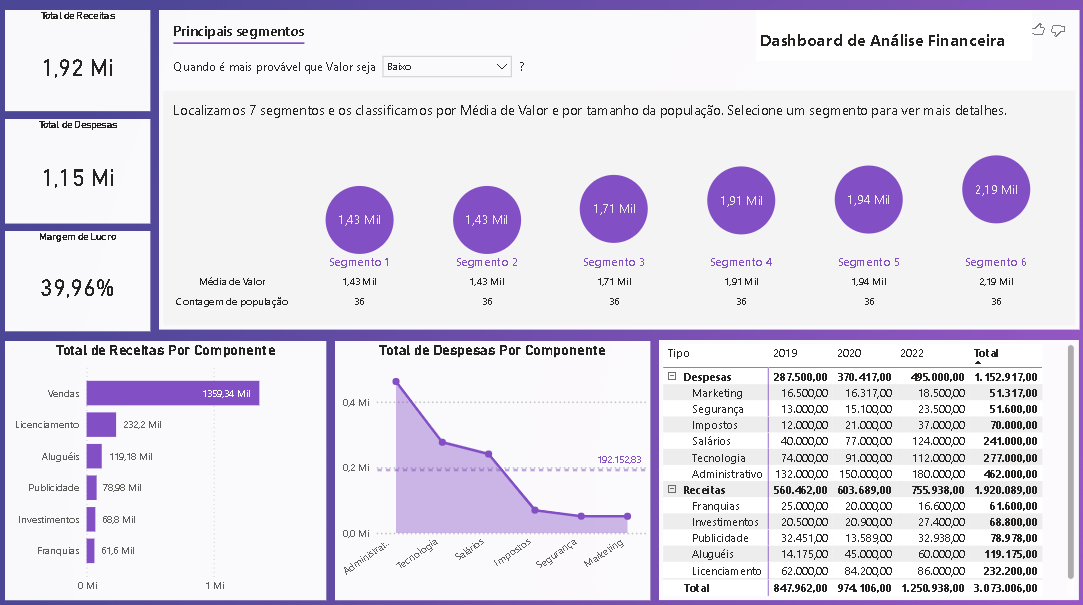

The page's visual inventory and layout, read from the dashboard file:
{"tool":"powerbi","page":{"name":"Dashboard","canvas":[1280,720],"ordinal":0},"visuals":[{"type":"card","title":"Total de  Receitas","fields":{"Values":["Medidas.TotalReceitas"]},"box":[6.2,16.1,171,119],"z":0},{"type":"card","title":"Total de Despesas","fields":{"Values":["Medidas.TotalDespesas"]},"box":[6.2,145,171,122.7],"z":1000},{"type":"card","title":"Margem de Lucro","fields":{"Values":["Medidas.Margem de Lucro"]},"box":[6.2,276.4,171,117.7],"z":2000},{"type":"clusteredBarChart","title":"Total de Receitas Por Componente","fields":{"Category":["DadosFinanceiros.Componente"],"Y":["Medidas.TotalReceitas"]},"box":[5.5,405.3,377.9,305],"z":3000},{"type":"areaChart","title":"Total de Despesas Por Componente","fields":{"Category":["DadosFinanceiros.Componente"],"Y":["Medidas.TotalDespesas"]},"box":[394.4,405.3,371,305],"z":4000},{"type":"pivotTable","fields":{"Rows":["DadosFinanceiros.Tipo","DadosFinanceiros.Componente"],"Values":["Sum(DadosFinanceiros.Valor)"],"Columns":["DadosFinanceiros.Data.Variation.Hierarquia de datas.Ano"]},"box":[774.7,404.7,494,305.9],"z":5000},{"type":"keyDriversVisual","fields":{"ExplainBy":["DadosFinanceiros.Componente","DadosFinanceiros.Tipo"],"Target":["DadosFinanceiros.Valor"]},"box":[187.4,16.2,1082.7,376.2],"z":6000},{"type":"textbox","box":[889.6,16.2,325.4,60],"z":7000}]}

Visuals, with their boxes in screenshot pixels (x1, y1, x2, y2), scaled from the page's 1280x720 canvas onto the 1083x605 screenshot:
"Total de  Receitas" card: <bbox>5, 14, 150, 114</bbox>
"Total de Despesas" card: <bbox>5, 122, 150, 225</bbox>
"Margem de Lucro" card: <bbox>5, 232, 150, 331</bbox>
"Total de Receitas Por Componente" clusteredBarChart: <bbox>5, 341, 324, 597</bbox>
"Total de Despesas Por Componente" areaChart: <bbox>334, 341, 648, 597</bbox>
pivotTable - DadosFinanceiros.Tipo x DadosFinanceiros.Componente: <bbox>655, 340, 1073, 597</bbox>
keyDriversVisual - DadosFinanceiros.Componente x DadosFinanceiros.Tipo: <bbox>159, 14, 1075, 330</bbox>
textbox: <bbox>753, 14, 1028, 64</bbox>
